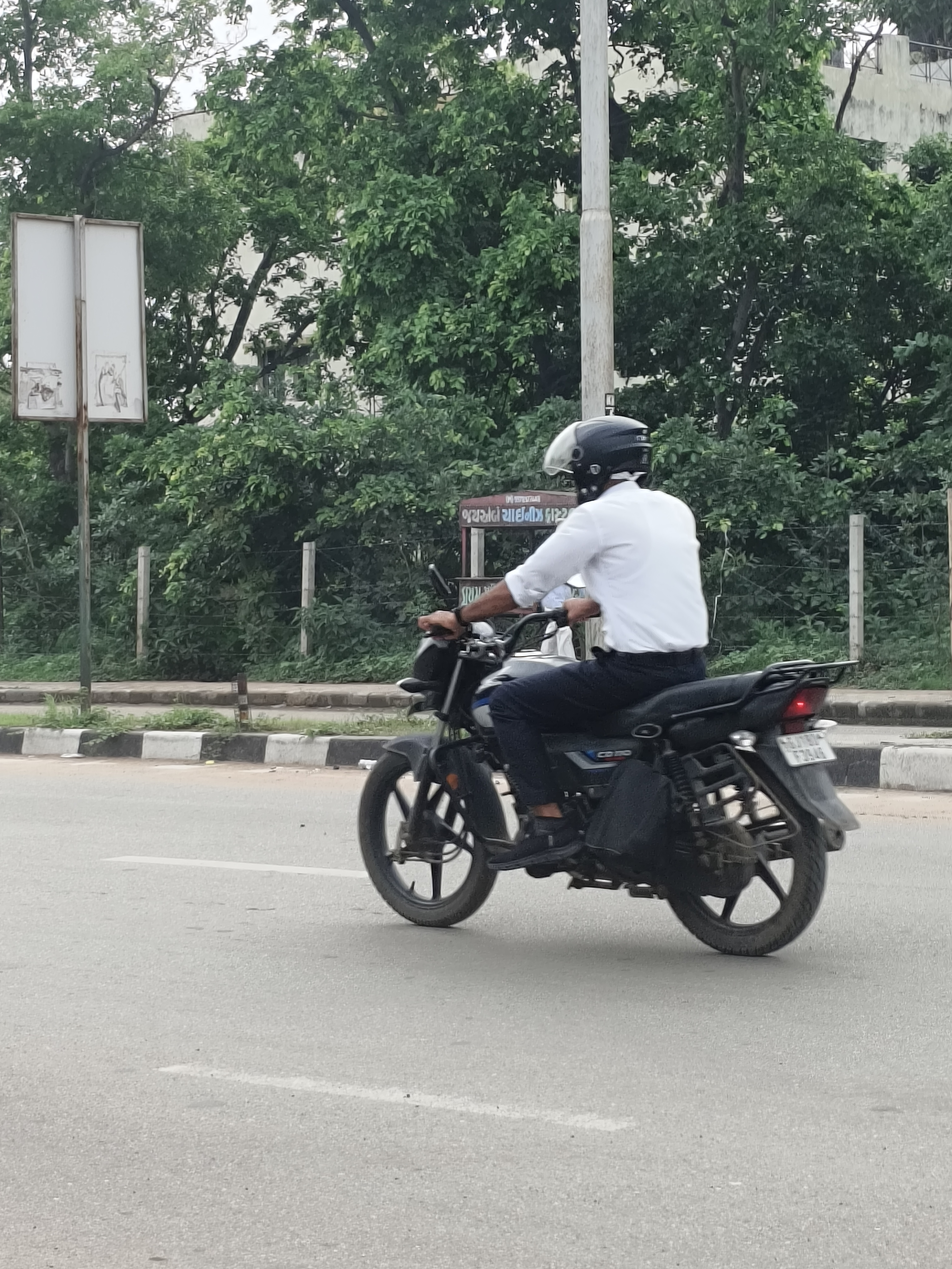BikeWithRider: (340, 405, 875, 968)
Helmet: (536, 407, 662, 510)
